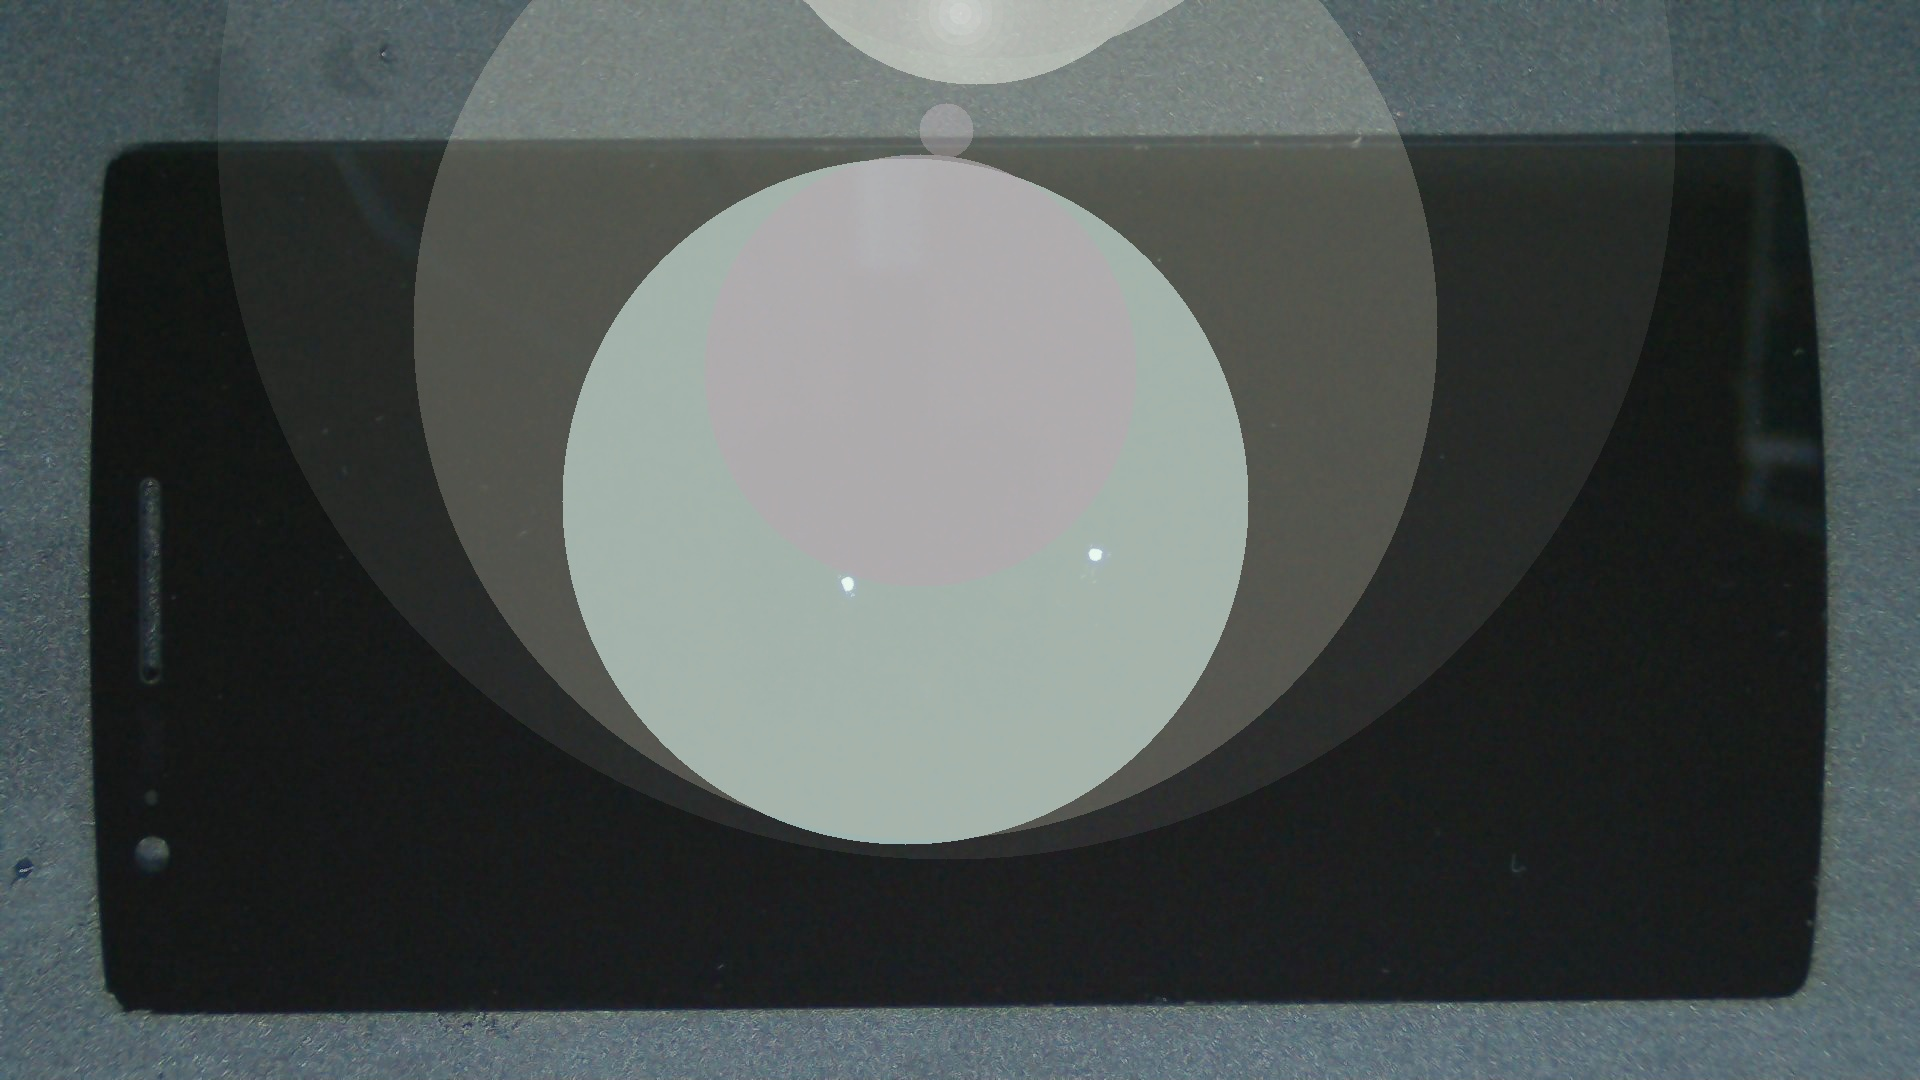oil: (545, 273, 1633, 819), (425, 286, 1270, 862)
